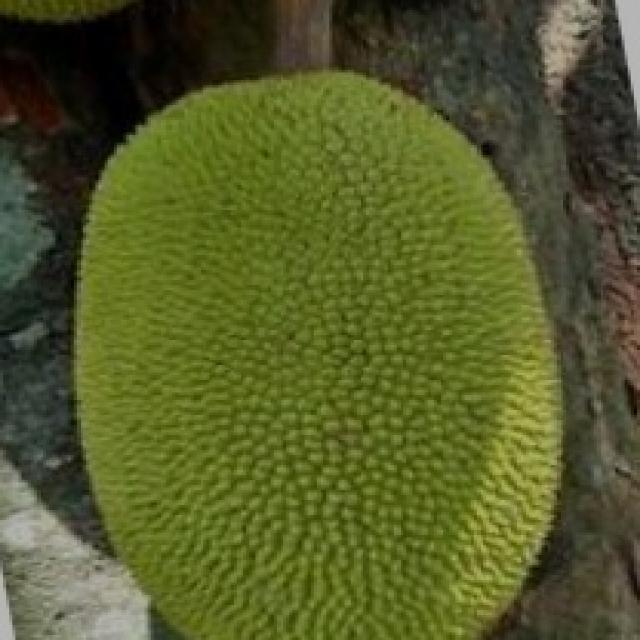Fruit: (224, 5, 622, 373), (258, 258, 610, 638)
